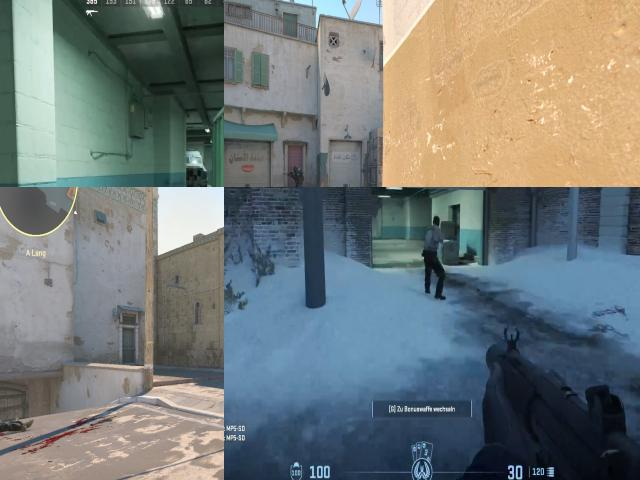CT: (290, 164, 303, 187)
CT-Head: (292, 166, 298, 172)
Dead: (0, 416, 32, 434)
T: (424, 223, 440, 262)
T-Head: (430, 215, 441, 231)
